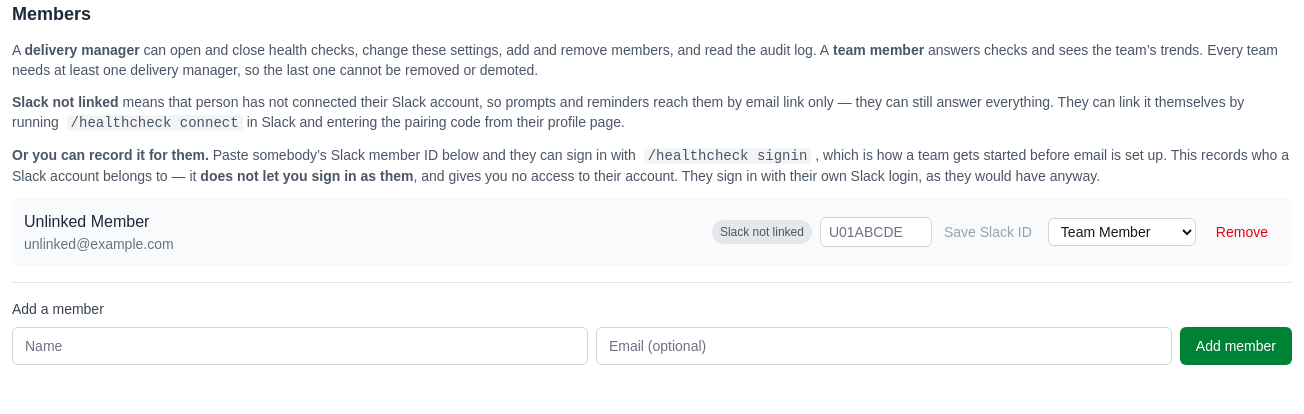
Test: recording a Slack account › leaves the member unlinked when the server refuses
Type "U123ABC" into the field named "slack member id". click: (876, 232)
box: [820,217,932,247]
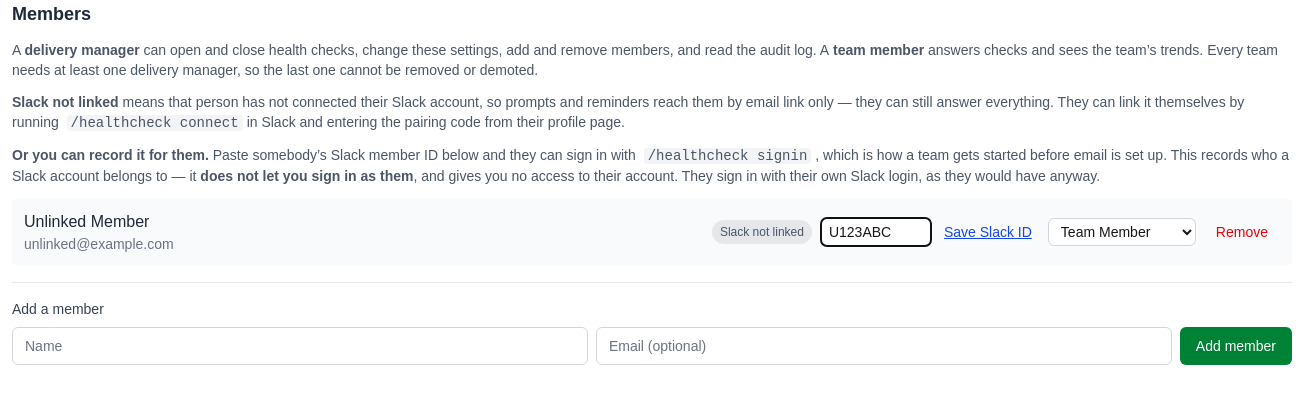
Click the button "Save Slack ID". click: (988, 232)
box: [936,218,1040,246]
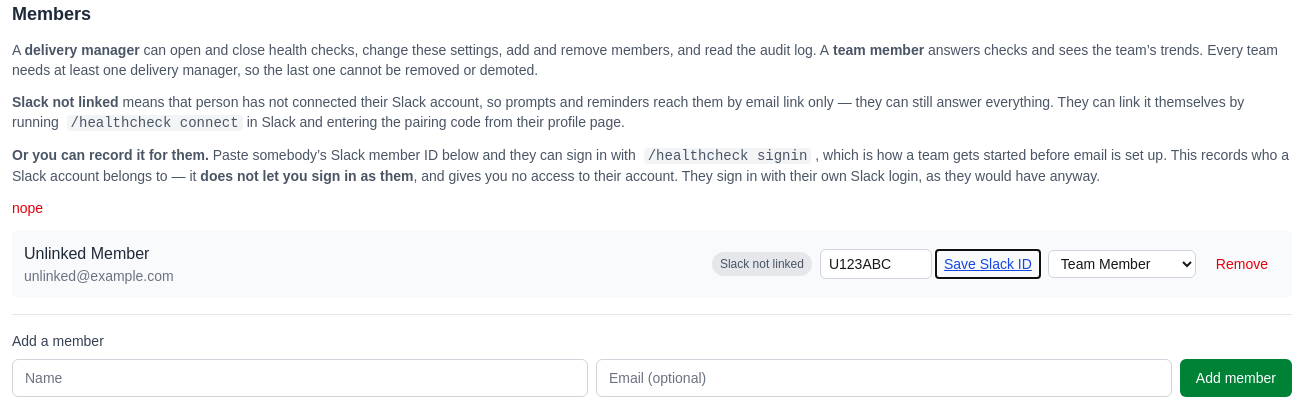
Expected: the text "Slack not linked" in the row of "unlinked@example.com" is shown, [720,257,804,271]
Now the message "nope" is shown, box [12,200,43,216]
